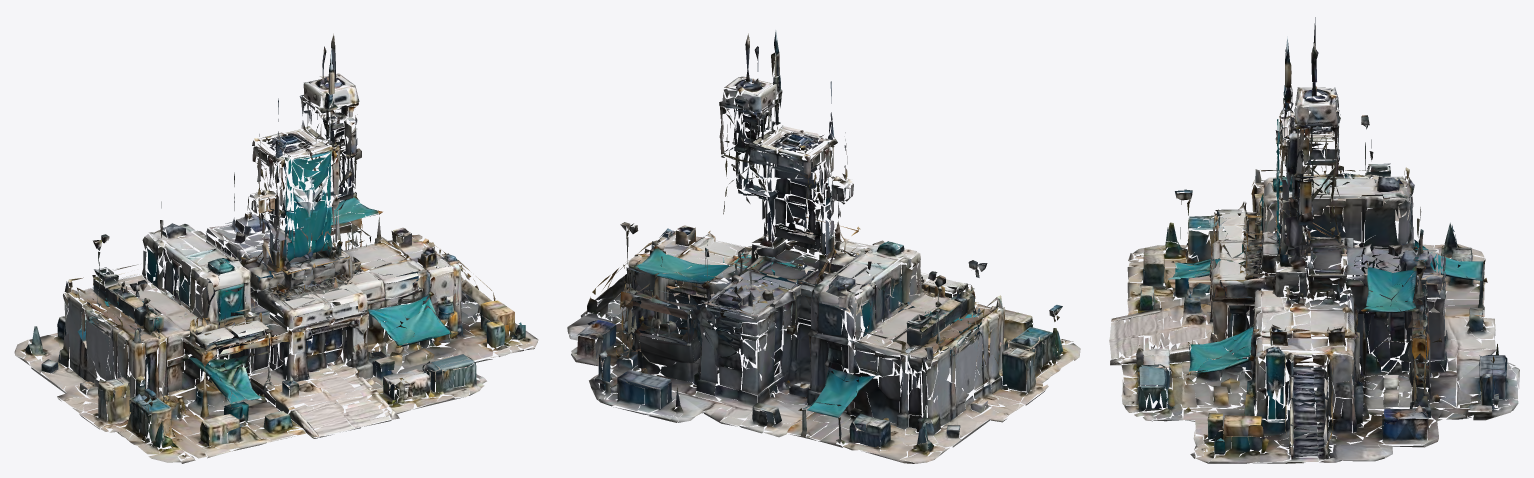
The model's file is HL_Base_Liberator_Outpost.glb.
3 views of the same model, side by side, from view 1: azimuth 30°, elevation 25°; view 2: azimuth 150°, elevation 25°; view 3: azimuth 270°, elevation 25° (orthographic). The views are drawn at different scales.
Visible parts, largest first — view 1: tripo_node_1ce18dae-c45a-4e41-8ea8-5b458d1695eb; view 2: tripo_node_1ce18dae-c45a-4e41-8ea8-5b458d1695eb; view 3: tripo_node_1ce18dae-c45a-4e41-8ea8-5b458d1695eb.
Part boxes in pixels (left/top/right/bottom): tripo_node_1ce18dae-c45a-4e41-8ea8-5b458d1695eb: left=14, top=33, right=538, bottom=463; tripo_node_1ce18dae-c45a-4e41-8ea8-5b458d1695eb: left=567, top=30, right=1080, bottom=463; tripo_node_1ce18dae-c45a-4e41-8ea8-5b458d1695eb: left=1109, top=17, right=1519, bottom=463.
Bounding box in the file's own units: 0.9789 × 0.7399 × 0.759.
1 material, 1 textured.
